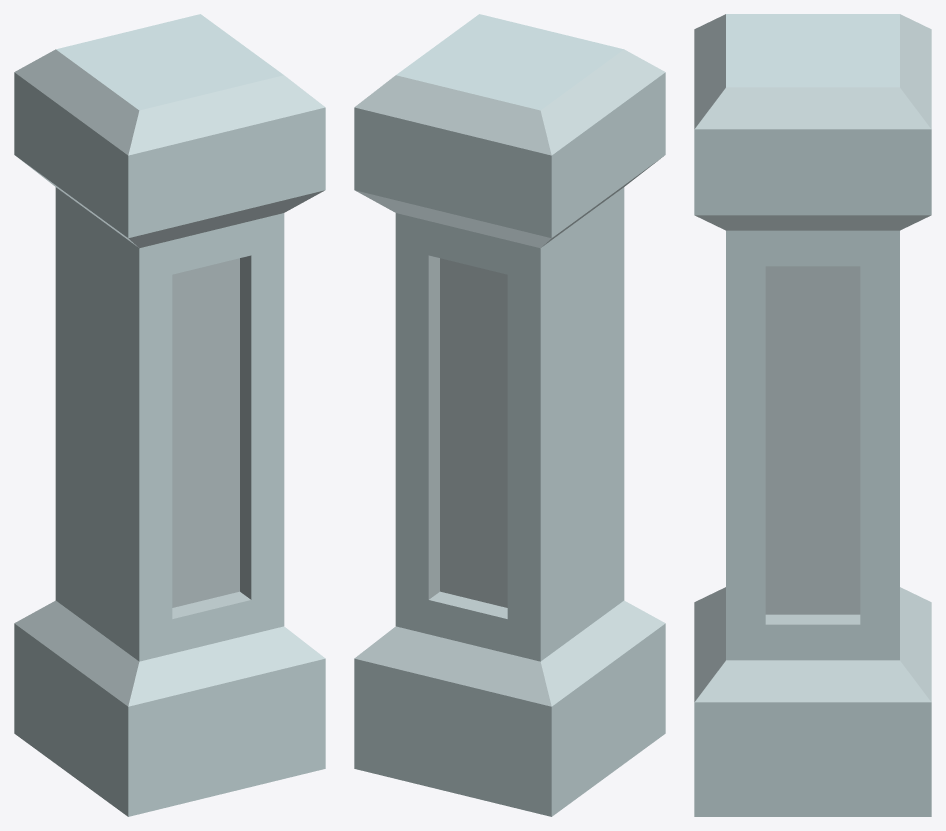
Rendered from broken_column.glb.
3 views of the same model, side by side, from view 1: azimuth 30°, elevation 25°; view 2: azimuth 150°, elevation 25°; view 3: azimuth 270°, elevation 25° (orthographic). The views are drawn at different scales.
Visible parts, largest first — view 1: statue_column; view 2: statue_column; view 3: statue_column.
Boxes of the visible parts, x1,y1,x2,y2 form: statue_column: (14,14,325,816); statue_column: (354,14,665,816); statue_column: (694,14,931,816).
Bounding box in the file's own units: 0.3 × 1 × 0.3.
